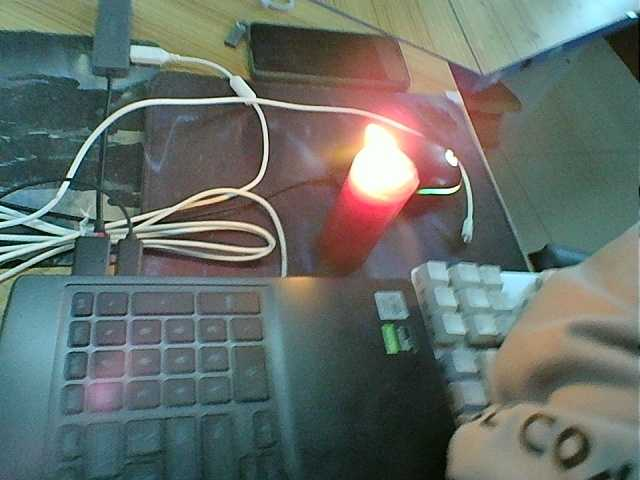candle: (321, 147, 427, 276)
fire: (340, 128, 421, 195)
